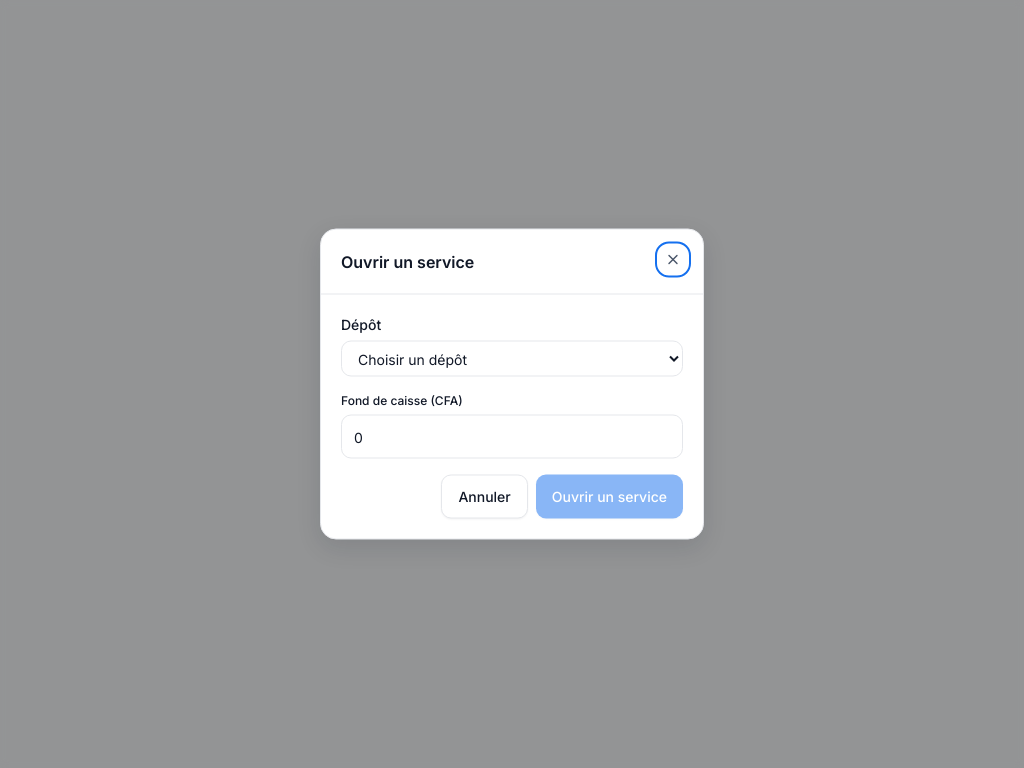
Test case: OpenShiftModal › requires depot for admin and rejects negative float
This screenshot has width=1024, height=768.
Replace the text in the field labelled "Fond de caisse (CFA)" with "-1". click: (512, 436)
box: [341, 414, 683, 458]
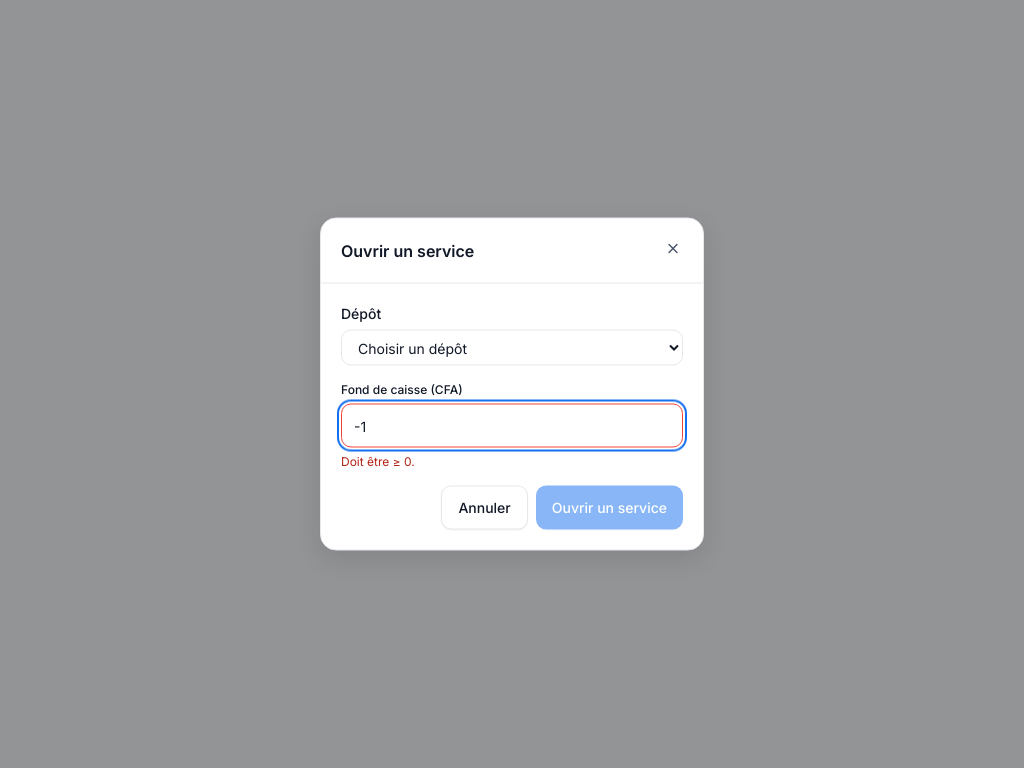
Expected: the button "Ouvrir un service" is disabled, [536, 486, 683, 530]
Expected: the text "Doit être ≥ 0." is shown, [341, 454, 415, 468]
